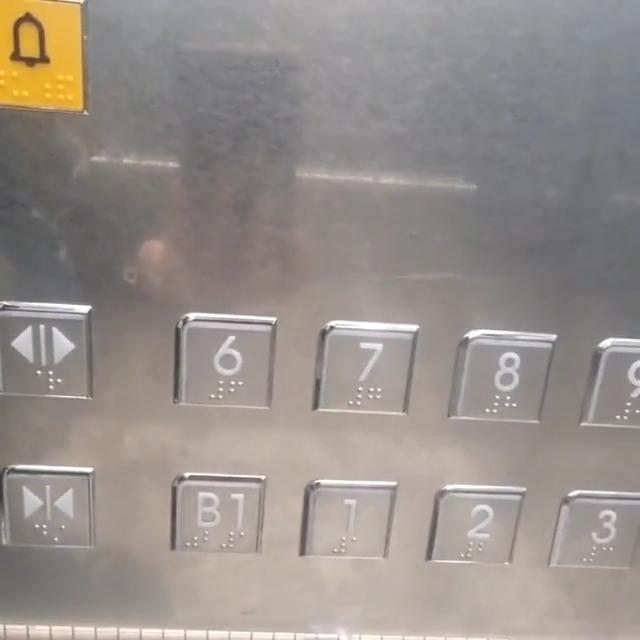button: (0, 0, 96, 115), (0, 293, 101, 398), (0, 464, 113, 556), (326, 324, 431, 422), (171, 324, 291, 408), (459, 325, 553, 430), (170, 466, 264, 563), (427, 485, 519, 568), (308, 477, 390, 561), (567, 488, 640, 573)
